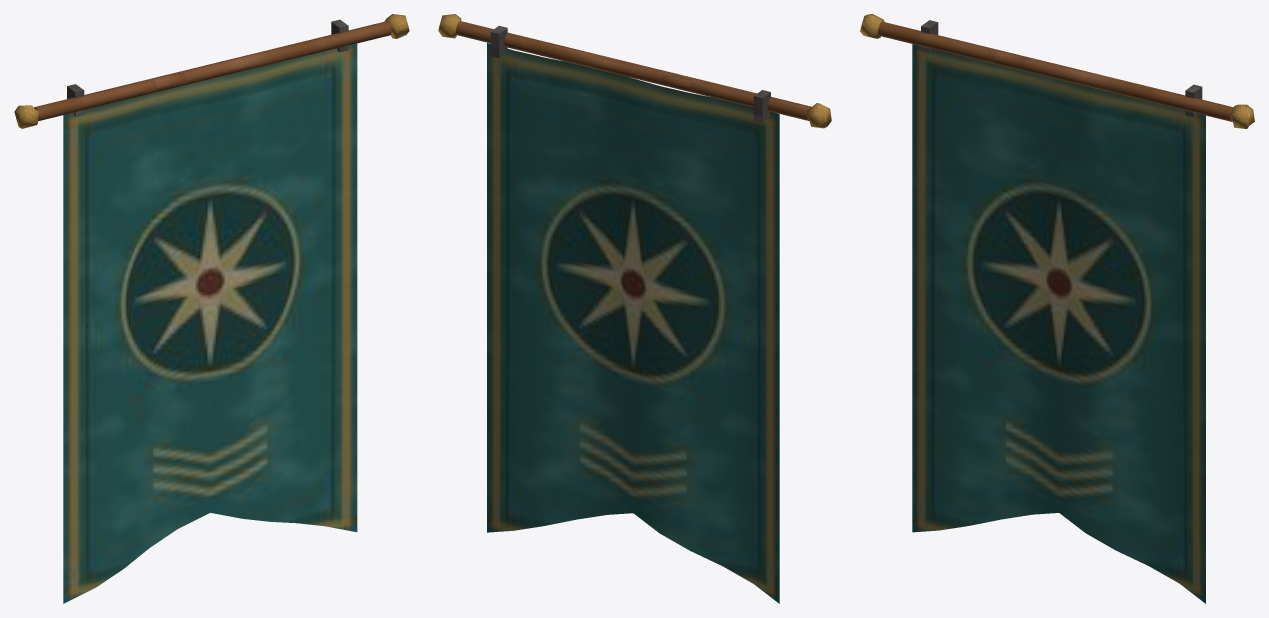
Rendered from banner.lod2.glb.
3 renders of one model, left to right at view 1: azimuth 30°, elevation 25°; view 2: azimuth 150°, elevation 25°; view 3: azimuth 330°, elevation 25°, orthographic.
Parts seen in each view (by area): view 1: Banner, Frame; view 2: Banner, Frame; view 3: Banner, Frame.
Boxes of the visible parts, x1,y1,x2,y2 form: Banner: [63, 43, 357, 603]; Frame: [14, 14, 409, 128]; Banner: [487, 43, 779, 603]; Frame: [438, 14, 831, 128]; Banner: [912, 44, 1205, 603]; Frame: [860, 14, 1254, 128].
Bounding box in the file's own units: 1.32 × 1.66 × 0.082.
4 materials, 4 textured.
